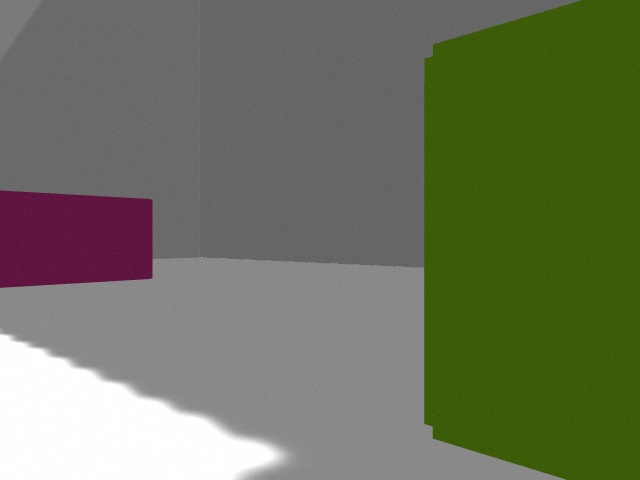green_drop_zone: (424, 0, 640, 480)
red_drop_zone: (0, 190, 153, 288)
